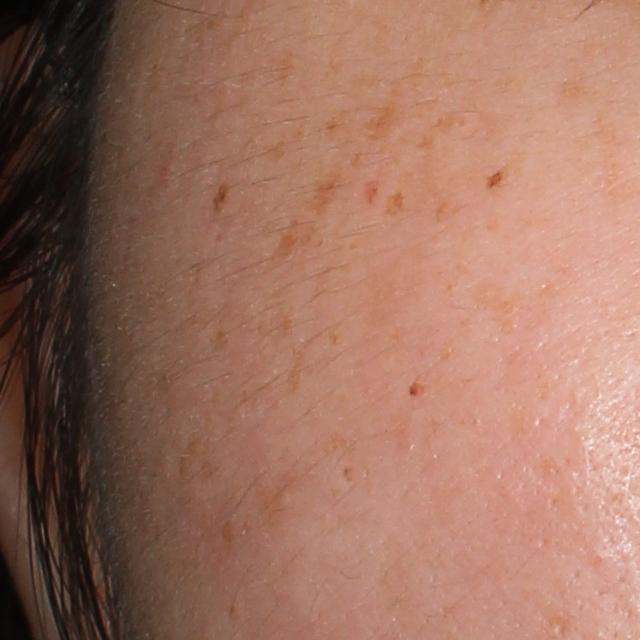melasma: (472, 272, 531, 339), (301, 157, 351, 221), (258, 215, 304, 276), (280, 333, 321, 401), (362, 98, 399, 144), (556, 70, 593, 107), (321, 105, 359, 138), (207, 178, 233, 225), (428, 109, 469, 137), (483, 165, 511, 196), (381, 187, 406, 218), (211, 325, 234, 355), (348, 144, 369, 170), (433, 195, 448, 227), (415, 135, 439, 154), (405, 380, 427, 397), (326, 327, 342, 346)
